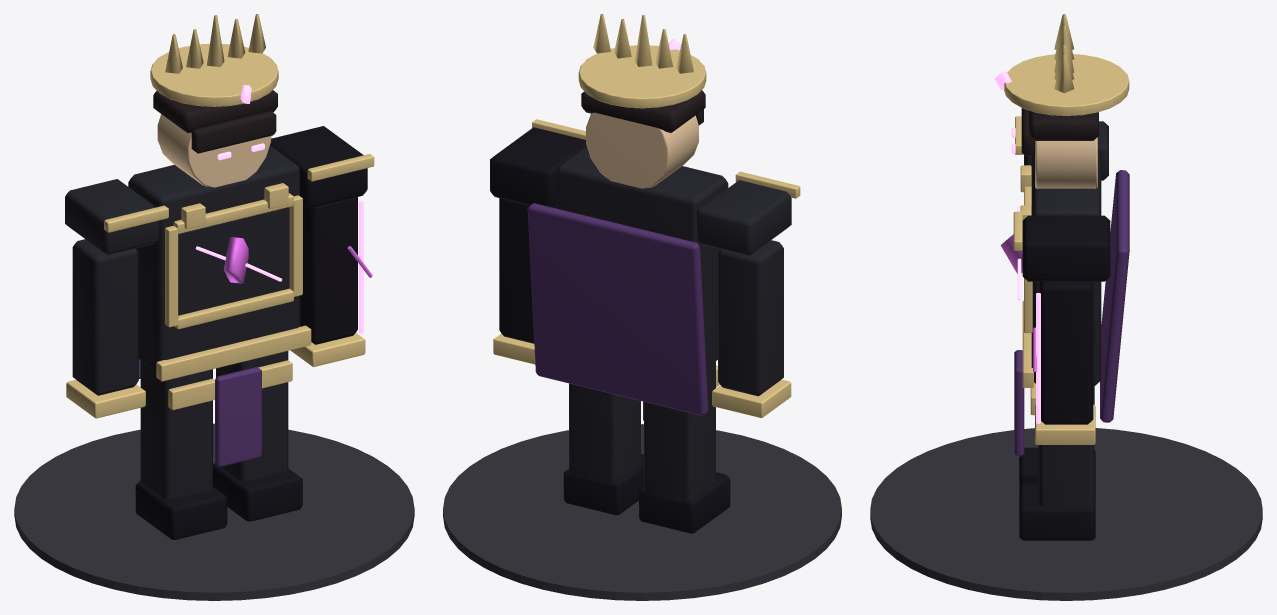
The model's file is crownbound_challenger_v1.fbx.
The picture shows the model from 3 angles, left to right: view 1: azimuth 30°, elevation 25°; view 2: azimuth 150°, elevation 25°; view 3: azimuth 270°, elevation 25°; orthographic projection.
Parts seen in each view (by area): view 1: Preview_Base_Disc, Torso_Black_Armor, Arm_Left_Armor, Leg_Left_Armor, Arm_Right_Corrupted_Armor, Crown_Circlet, Shoulder_Left_Gold_Edged, Royal_Waist_Cloth, Shoulder_Right_Corrupted, Head_Roblox_BlockRounded, Leg_Right_Armor, Boot_Left (+19 smaller); view 2: Preview_Base_Disc, Short_Torn_Royal_Cape, Torso_Black_Armor, Arm_Left_Armor, Leg_Left_Armor, Leg_Right_Armor, Head_Roblox_BlockRounded, Crown_Circlet, Shoulder_Left_Gold_Edged, Shoulder_Right_Corrupted, Arm_Right_Corrupted_Armor, Boot_Left (+6 smaller); view 3: Preview_Base_Disc, Arm_Right_Corrupted_Armor, Shoulder_Right_Corrupted, Crown_Circlet, Short_Torn_Royal_Cape, Leg_Right_Armor, Torso_Black_Armor, Boot_Right, Head_Roblox_BlockRounded, Hair_Shadow_Cap, Wrist_Right_Gold, Royal_Waist_Cloth (+4 smaller).
Part boxes in pixels (x1,y1,x2,y2): Preview_Base_Disc: (14, 423, 414, 600); Torso_Black_Armor: (128, 145, 300, 371); Arm_Left_Armor: (72, 239, 138, 395); Leg_Left_Armor: (140, 361, 212, 499); Arm_Right_Corrupted_Armor: (300, 197, 357, 344); Crown_Circlet: (150, 43, 278, 106); Shoulder_Left_Gold_Edged: (65, 179, 159, 255); Royal_Waist_Cloth: (215, 367, 261, 466); Shoulder_Right_Corrupted: (270, 126, 367, 208); Head_Roblox_BlockRounded: (157, 114, 271, 187); Leg_Right_Armor: (216, 351, 288, 480); Boot_Left: (135, 481, 227, 539); Preview_Base_Disc: (443, 424, 841, 600); Short_Torn_Royal_Cape: (527, 203, 708, 415); Torso_Black_Armor: (556, 147, 728, 367); Arm_Left_Armor: (718, 240, 783, 396); Leg_Left_Armor: (644, 361, 715, 502); Leg_Right_Armor: (569, 383, 640, 484); Head_Roblox_BlockRounded: (586, 108, 698, 188); Crown_Circlet: (578, 45, 706, 108); Shoulder_Left_Gold_Edged: (696, 180, 791, 256); Shoulder_Right_Corrupted: (490, 127, 586, 207); Arm_Right_Corrupted_Armor: (499, 198, 556, 343); Boot_Left: (639, 472, 730, 533); Preview_Base_Disc: (870, 428, 1262, 600); Arm_Right_Corrupted_Armor: (1039, 281, 1093, 424); Shoulder_Right_Corrupted: (1022, 215, 1110, 281); Crown_Circlet: (1004, 54, 1129, 115); Short_Torn_Royal_Cape: (1100, 170, 1129, 422); Leg_Right_Armor: (1038, 386, 1094, 507); Torso_Black_Armor: (1031, 149, 1101, 386); Boot_Right: (1019, 483, 1095, 540); Head_Roblox_BlockRounded: (1035, 137, 1097, 188); Hair_Shadow_Cap: (1029, 110, 1098, 140); Wrist_Right_Gold: (1035, 404, 1095, 444); Royal_Waist_Cloth: (1014, 350, 1024, 456).
Size of the model in its own units: 350 by 484 by 350.
